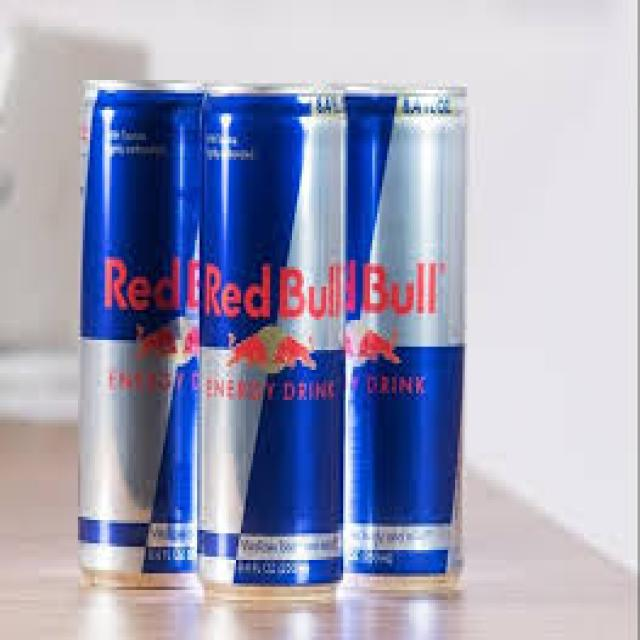red-bull: (202, 87, 346, 587), (347, 81, 470, 594), (81, 76, 198, 591)
